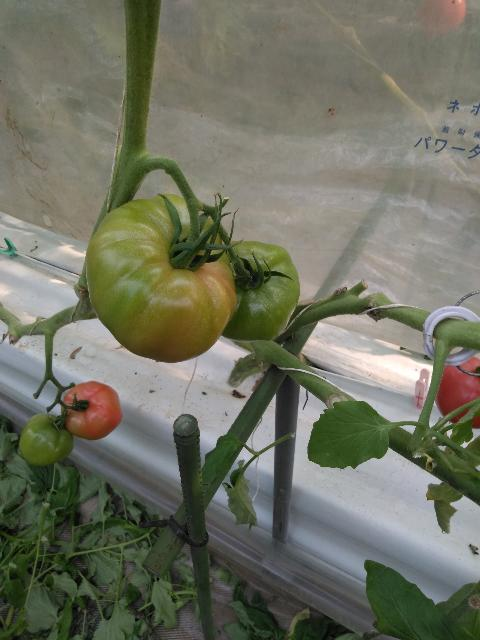b_fully_ripened: (435, 356, 480, 429)
b_green: (85, 193, 237, 363), (221, 240, 301, 342), (18, 413, 74, 468)
b_half_ripened: (61, 380, 123, 441)
